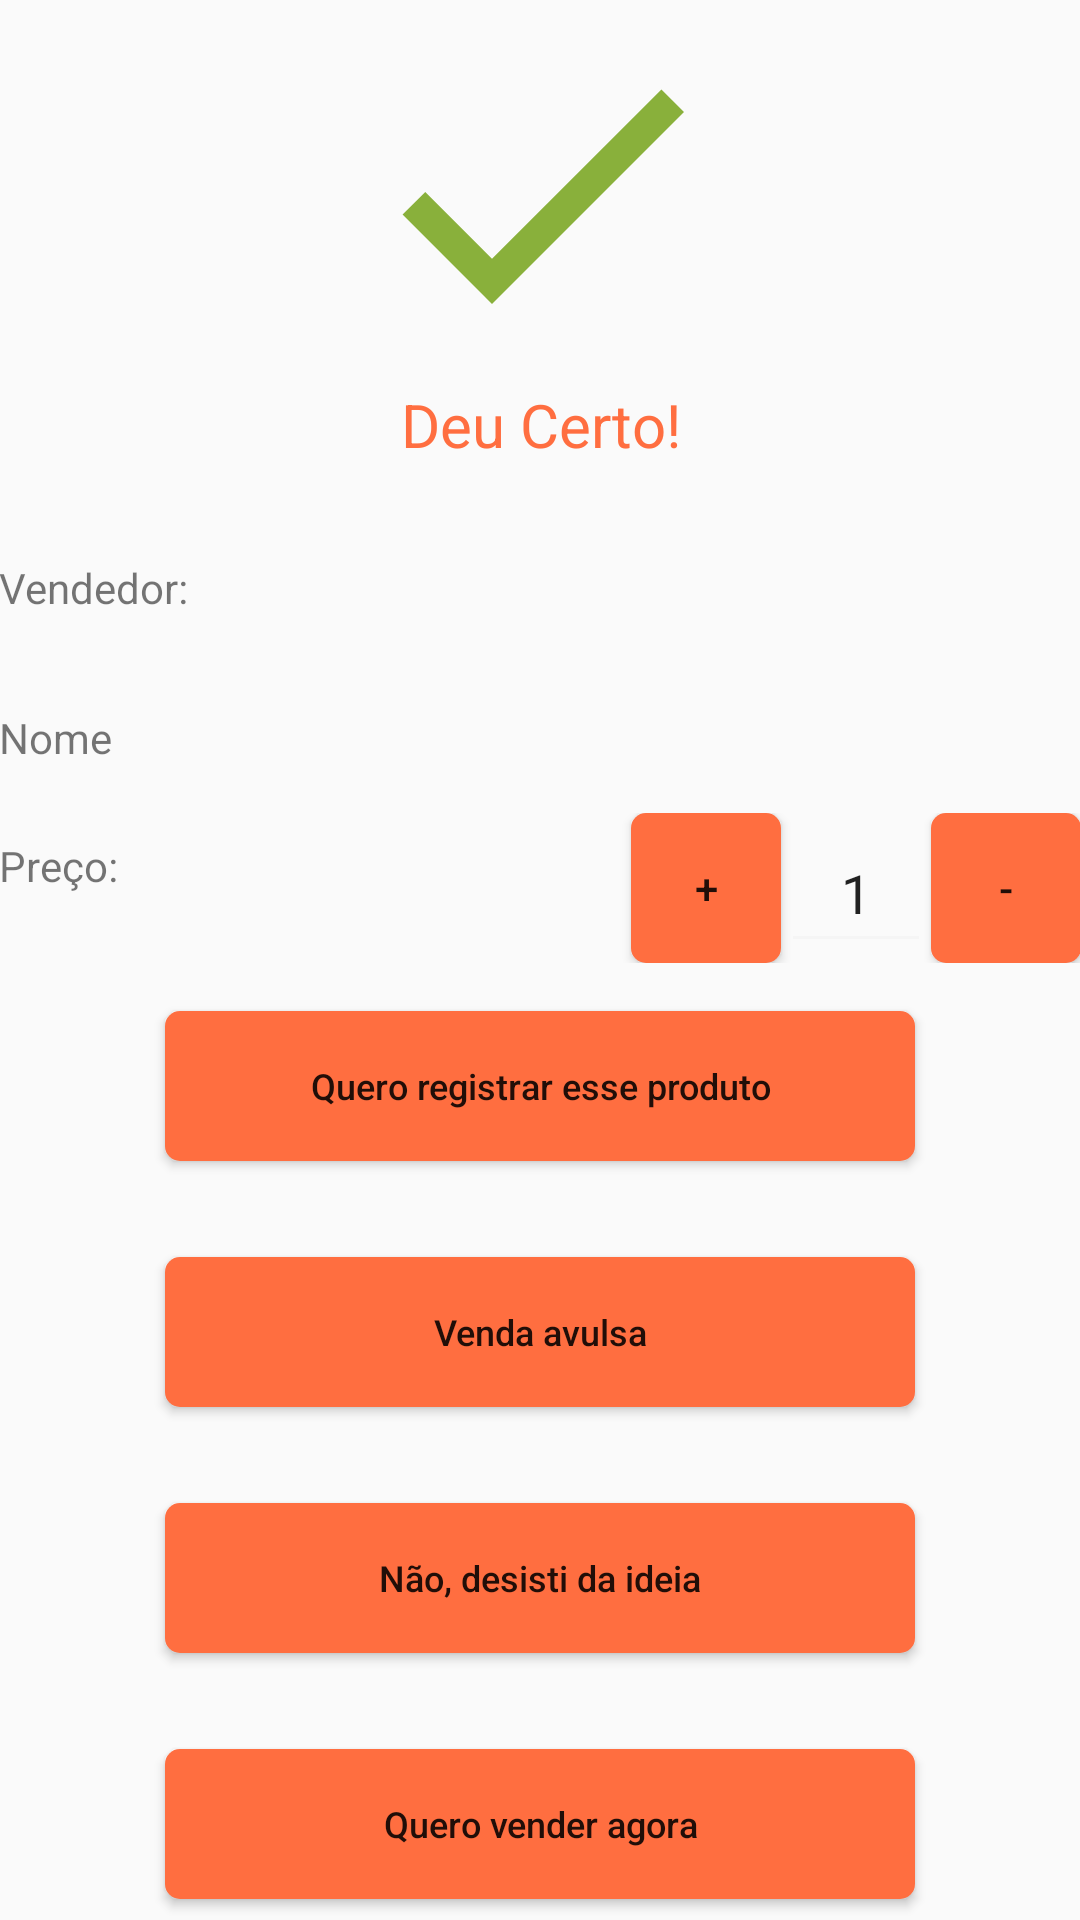

Named icons in this screenshot (1080*1920) and their centers, point (x, y):
check: point (543, 196)
